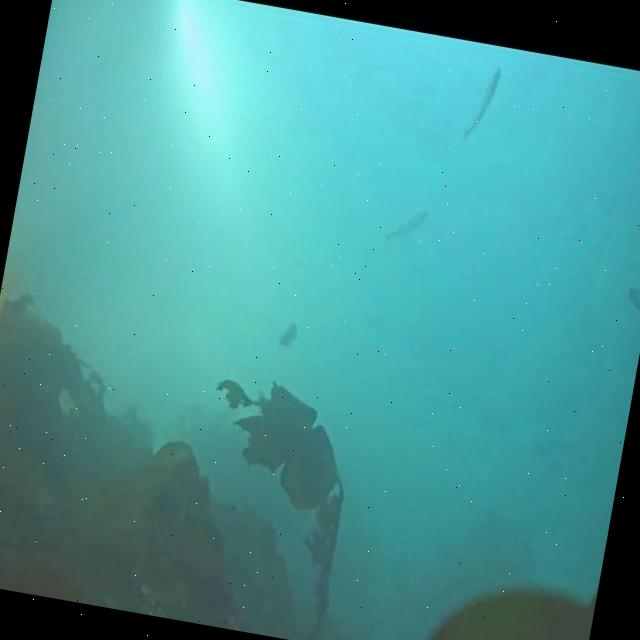fish: (461, 64, 501, 146), (383, 206, 427, 245)
